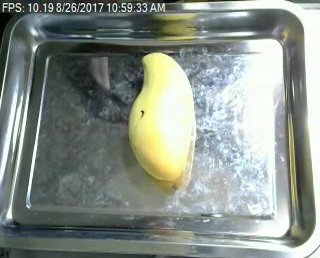Mango: (119, 53, 209, 200)
